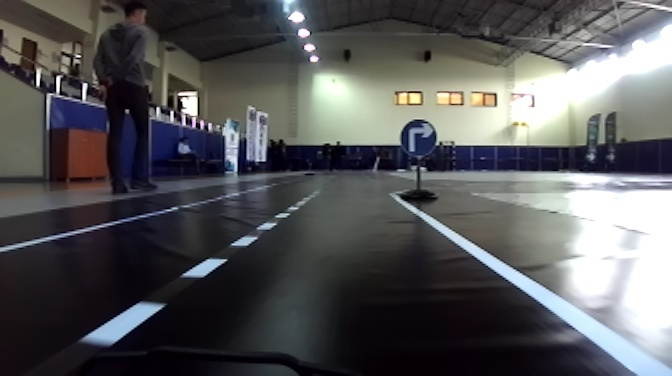saga_donus: (399, 120, 434, 155)
